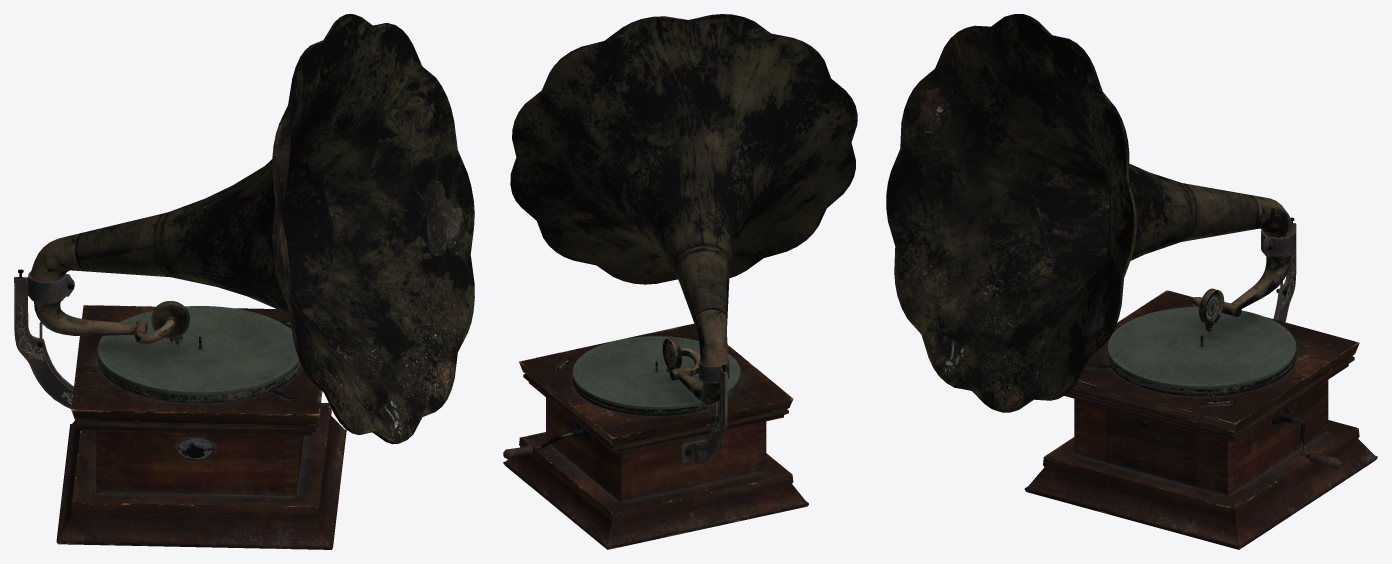
The model's file is Gramophone.FBX.
The picture shows the model from 3 angles, left to right: view 1: azimuth 30°, elevation 25°; view 2: azimuth 150°, elevation 25°; view 3: azimuth 270°, elevation 25°; orthographic projection. The views are drawn at different scales.
Parts seen in each view (by area): view 1: mesh0 (×3); view 2: mesh0 (×4); view 3: mesh0 (×3).
Part boxes in pixels (x1=…): mesh0 (×3): x1=14, y1=14, x2=474, y2=549; mesh0 (×4): x1=503, y1=14, x2=857, y2=549; mesh0 (×3): x1=886, y1=14, x2=1377, y2=549.
Bounding box in the file's own units: 4.36 × 5.39 × 5.17.
Materials: 1 (1 with a texture image).
